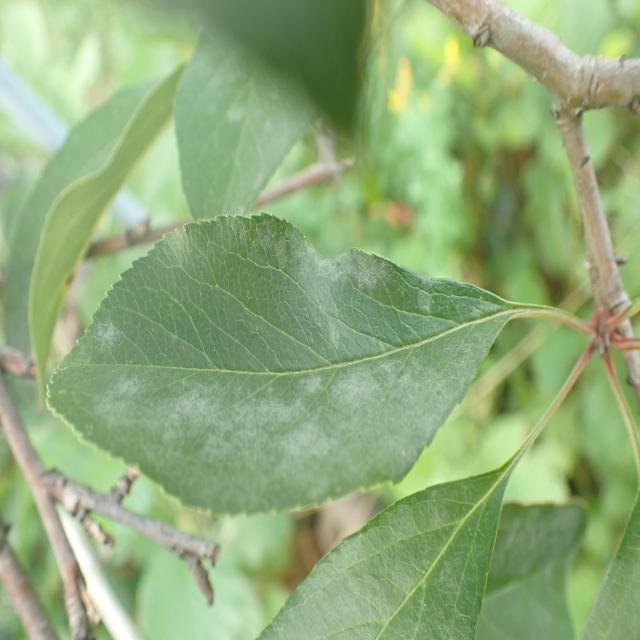Powdery_mildew: (56, 223, 506, 506)
